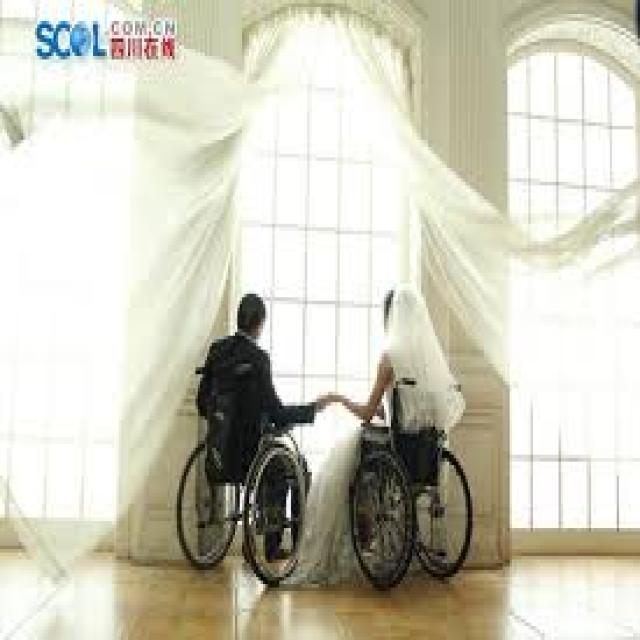wheelchairs: (170, 346, 316, 584), (356, 364, 482, 598)
